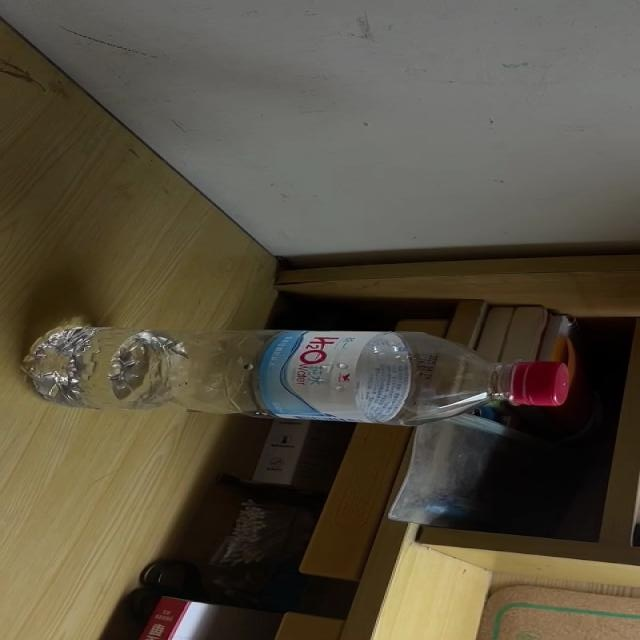Water: (25, 327, 570, 426)
